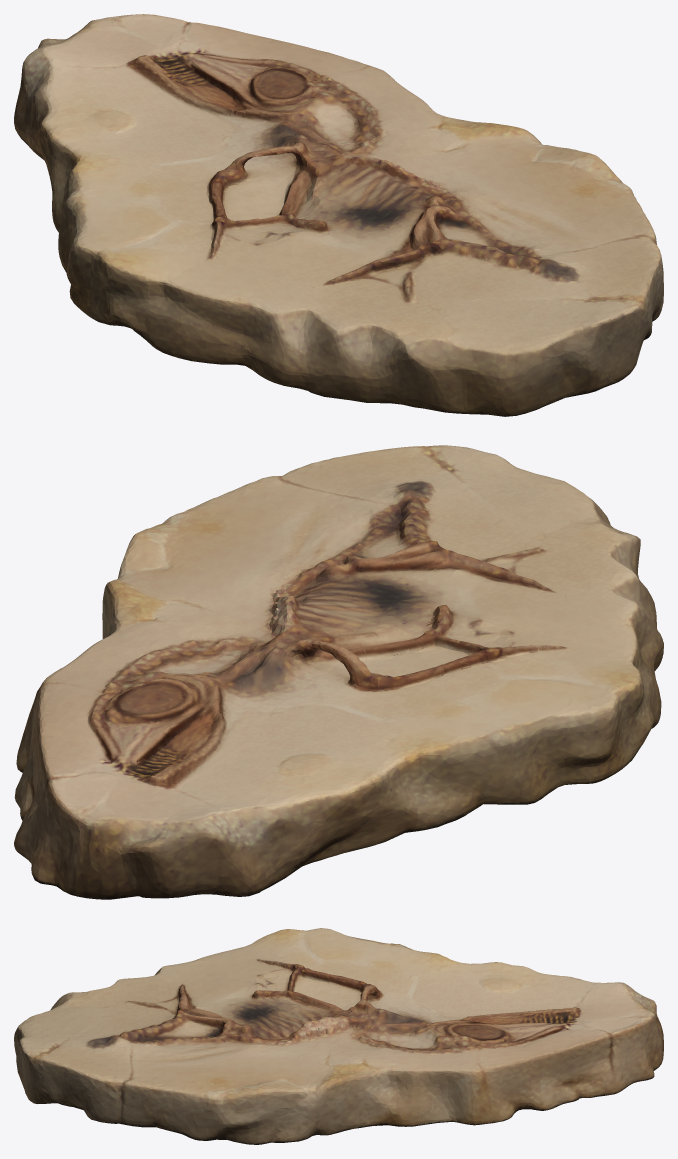
3 renders of one model, top to bottom at view 1: azimuth 30°, elevation 25°; view 2: azimuth 150°, elevation 25°; view 3: azimuth 270°, elevation 25°, orthographic. The views are drawn at different scales.
Parts seen in each view (by area): view 1: world; view 2: world; view 3: world.
Boxes of the visible parts, x1,y1,x2,y2 form: world: (14, 14, 663, 416); world: (14, 445, 663, 899); world: (14, 928, 663, 1144).
Bounding box in the file's own units: 0.6303 × 0.1192 × 0.997.
1 material, 1 textured.
